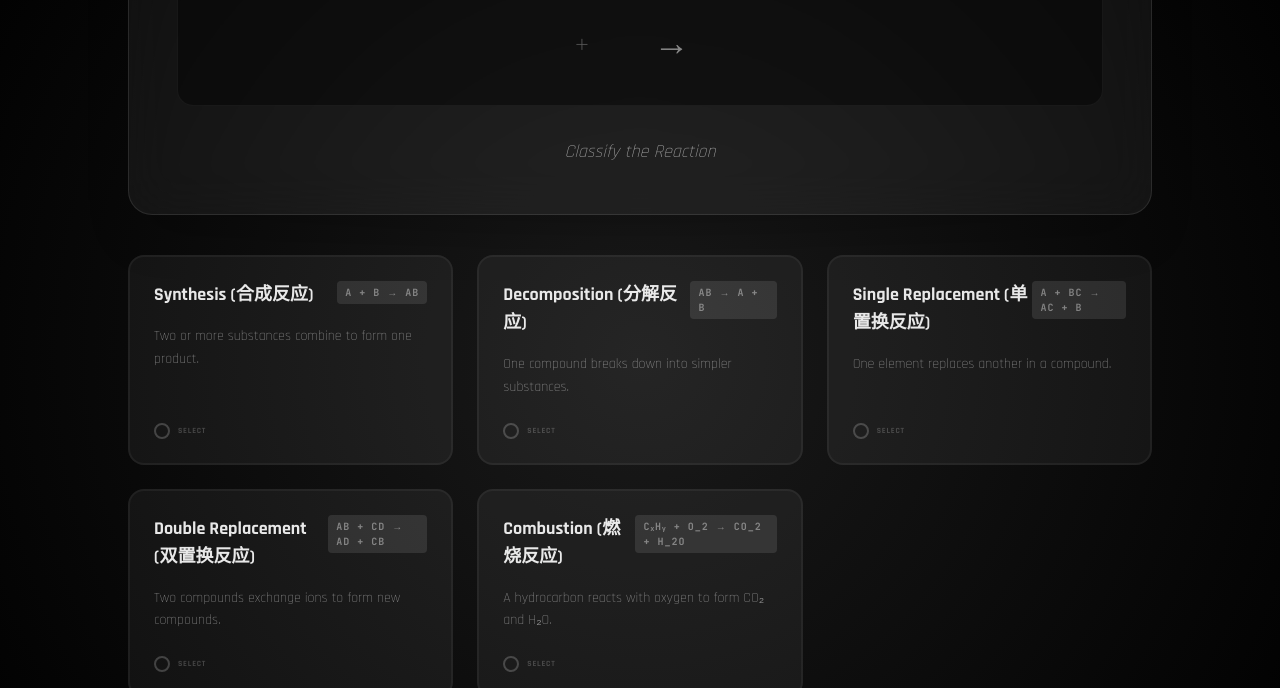
Test: ReactionTypeSelector Component › allows selecting a reaction type
Note: Select synthesis by clicking the card label text
What coordinates should you click on to do the following:
click the heading "Synthesis (合成反应)"
I would click on:
 (234, 295)
Its box is [154,281,314,309].
(page scrolled)
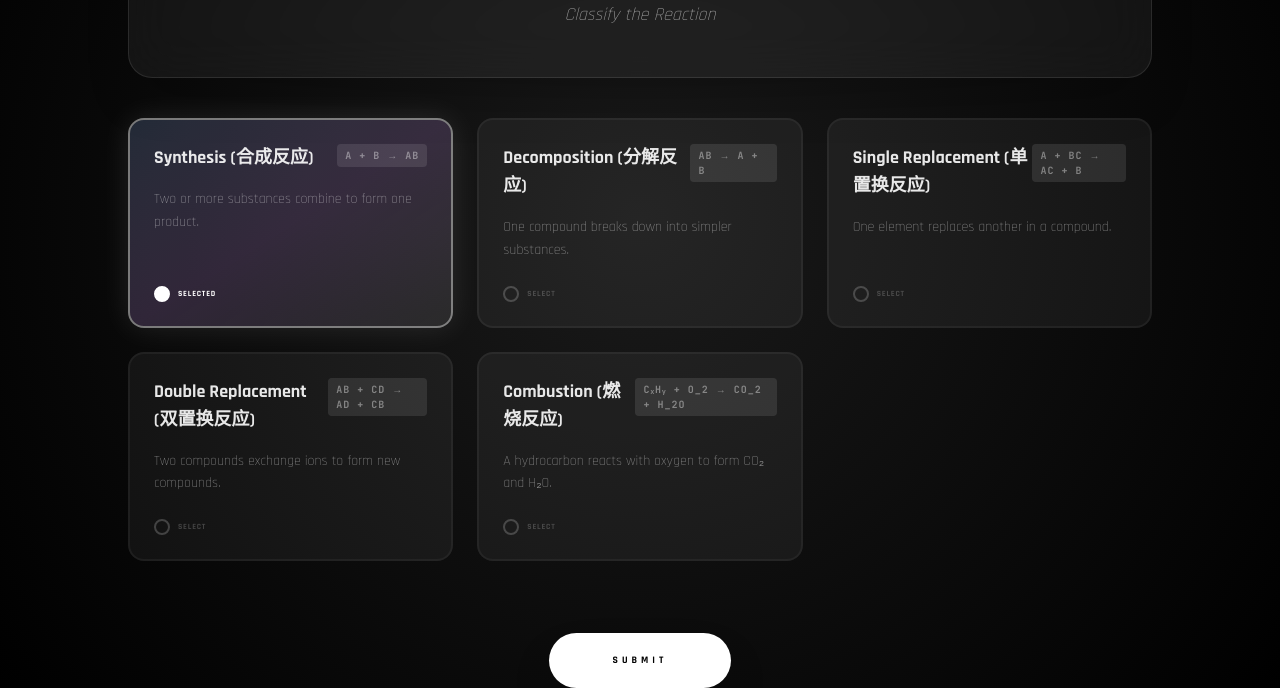
Expected: the button "Submit" is enabled, [548,633,731,687]
